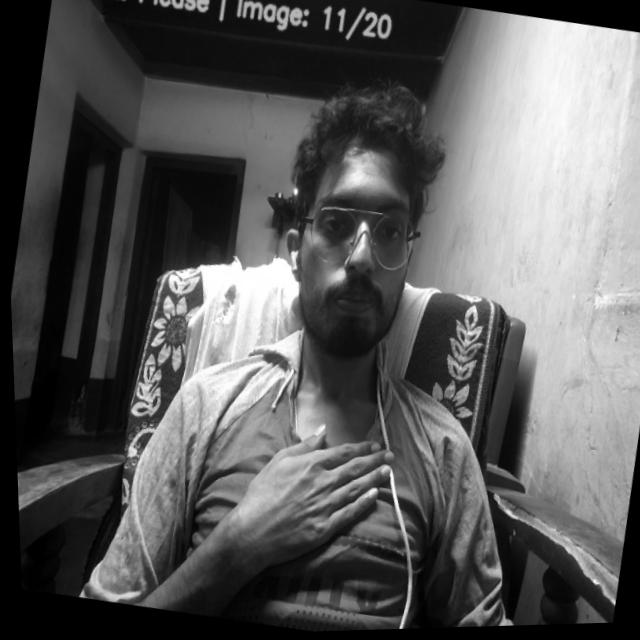Please: (217, 404, 405, 582)
